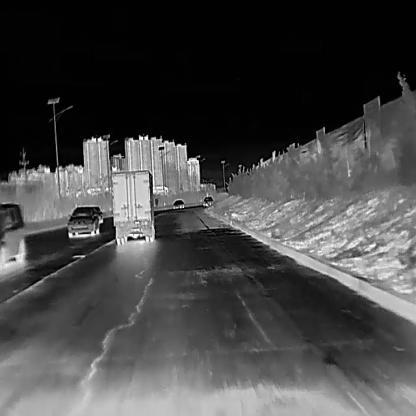car: (110, 170, 157, 245), (0, 201, 25, 264), (66, 204, 99, 237), (202, 195, 213, 206), (172, 198, 183, 208)
